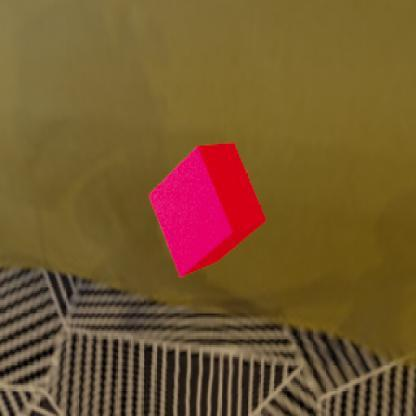cube: (148, 140, 265, 278)
